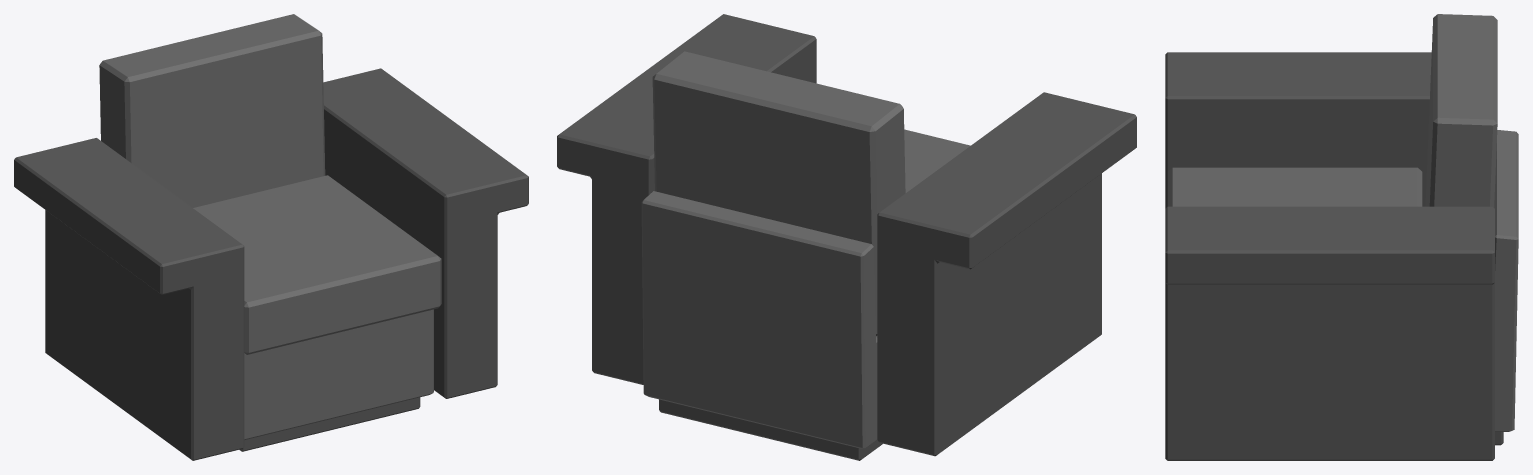
File: chair.fbx
The picture shows the model from 3 angles, left to right: view 1: azimuth 30°, elevation 25°; view 2: azimuth 150°, elevation 25°; view 3: azimuth 270°, elevation 25°; orthographic projection. The views are drawn at different scales.
Parts seen in each view (by area): view 1: chair; view 2: chair; view 3: chair.
Boxes of the visible parts, x1,y1,x2,y2 form: chair: [14, 14, 528, 460]; chair: [557, 14, 1136, 460]; chair: [1165, 14, 1518, 460].
Size of the model in its own units: 83.58 by 64.52 by 62.33.
1 material, 1 textured.
